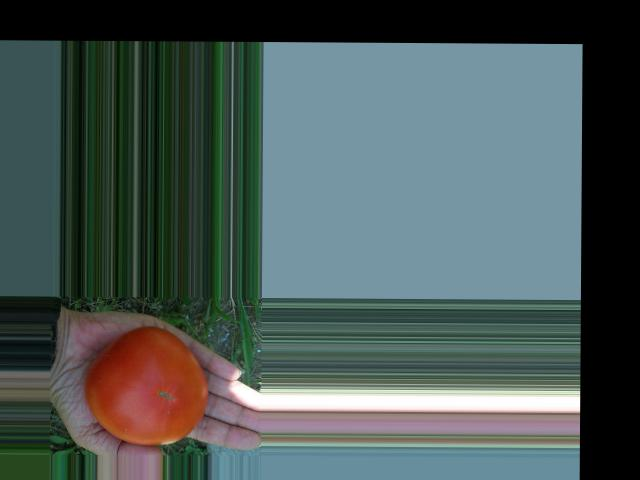tomato: (86, 325, 208, 445)
